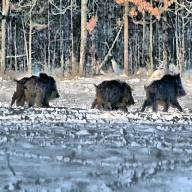boar: (140, 74, 188, 125), (17, 69, 64, 119), (92, 77, 136, 121)
